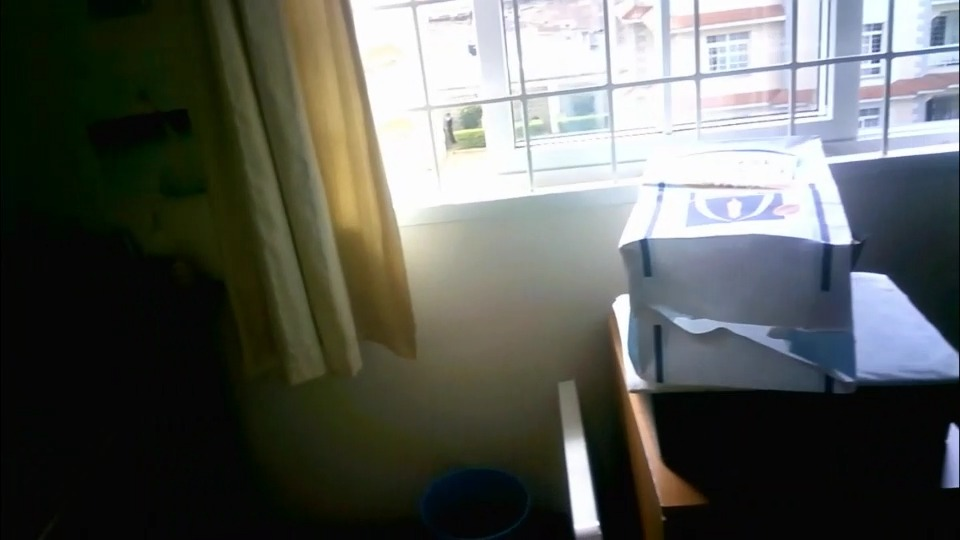wheat_flour_blue_label: (619, 140, 859, 392)
